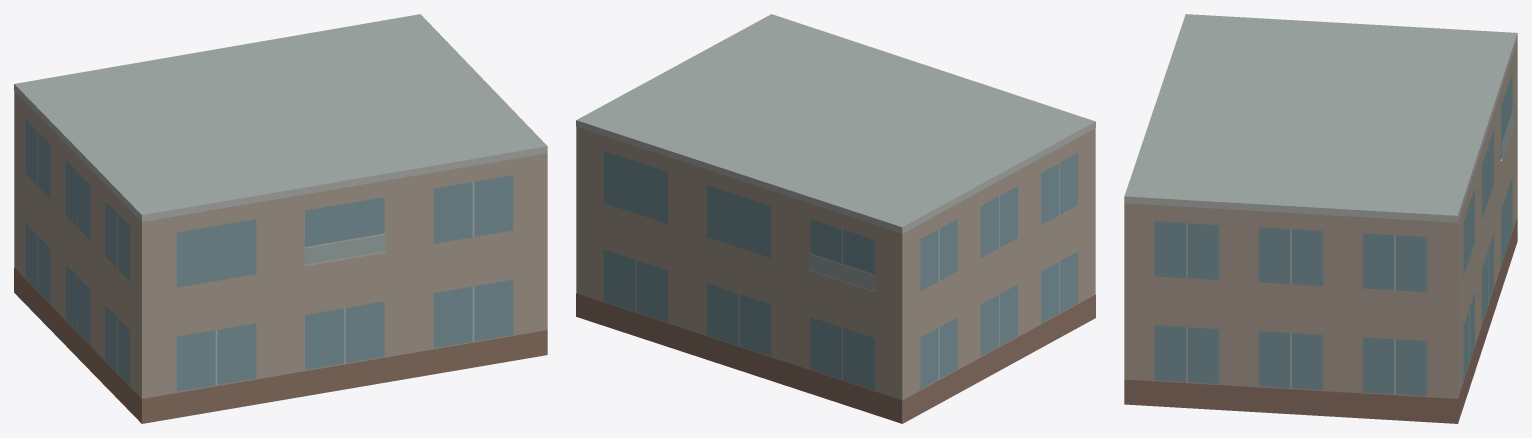
File: survey-upis-32737314.glb
3 renders of one model, left to right at view 1: azimuth 30°, elevation 25°; view 2: azimuth 150°, elevation 25°; view 3: azimuth 270°, elevation 25°, orthographic. The views are drawn at different scales.
Parts seen in each view (by area): view 1: survey-upis-32737314.tmp; view 2: survey-upis-32737314.tmp; view 3: survey-upis-32737314.tmp.
Part boxes in pixels (<box>): survey-upis-32737314.tmp: <box>14,14,547,423</box>; survey-upis-32737314.tmp: <box>576,14,1095,423</box>; survey-upis-32737314.tmp: <box>1124,14,1517,423</box>.
Size of the model in its own units: 15.42 by 7.4 by 12.69.
